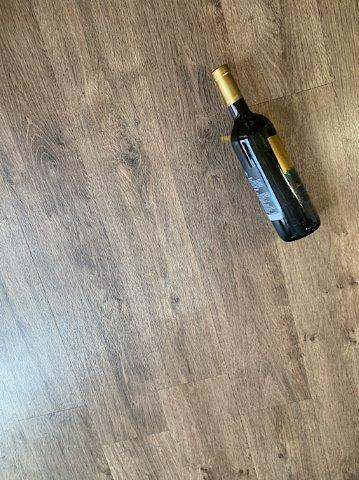botolkaca: (210, 65, 323, 242)
